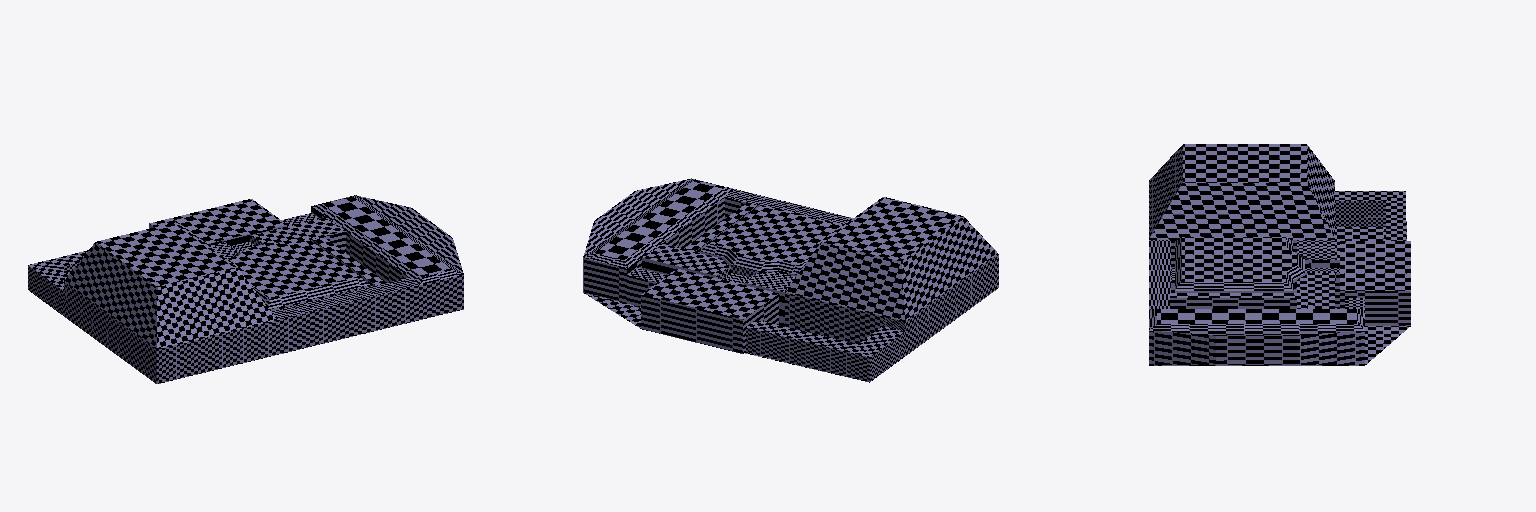
3 views of the same model, side by side, from view 1: azimuth 30°, elevation 25°; view 2: azimuth 150°, elevation 25°; view 3: azimuth 270°, elevation 25° (orthographic).
Parts seen in each view (by area): view 1: Plane; view 2: Plane; view 3: Plane.
Boxes of the visible parts, x1,y1,x2,y2 form: Plane: [28, 195, 463, 383]; Plane: [583, 178, 998, 382]; Plane: [1149, 144, 1410, 365].
Size of the model in its own units: 75.24 by 17.5 by 51.89.
Materials: 1 (1 with a texture image).